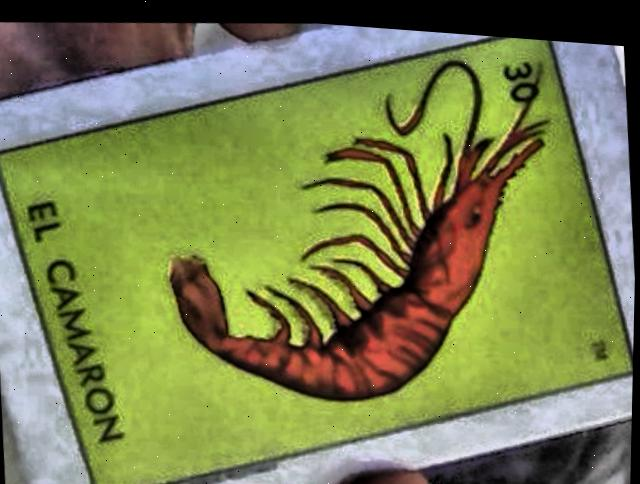El Camaron: (0, 30, 634, 484)
